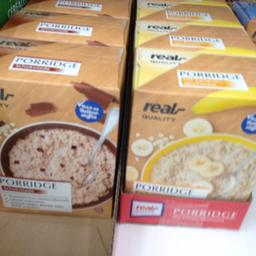cereal: (0, 34, 126, 216), (126, 48, 255, 195)
